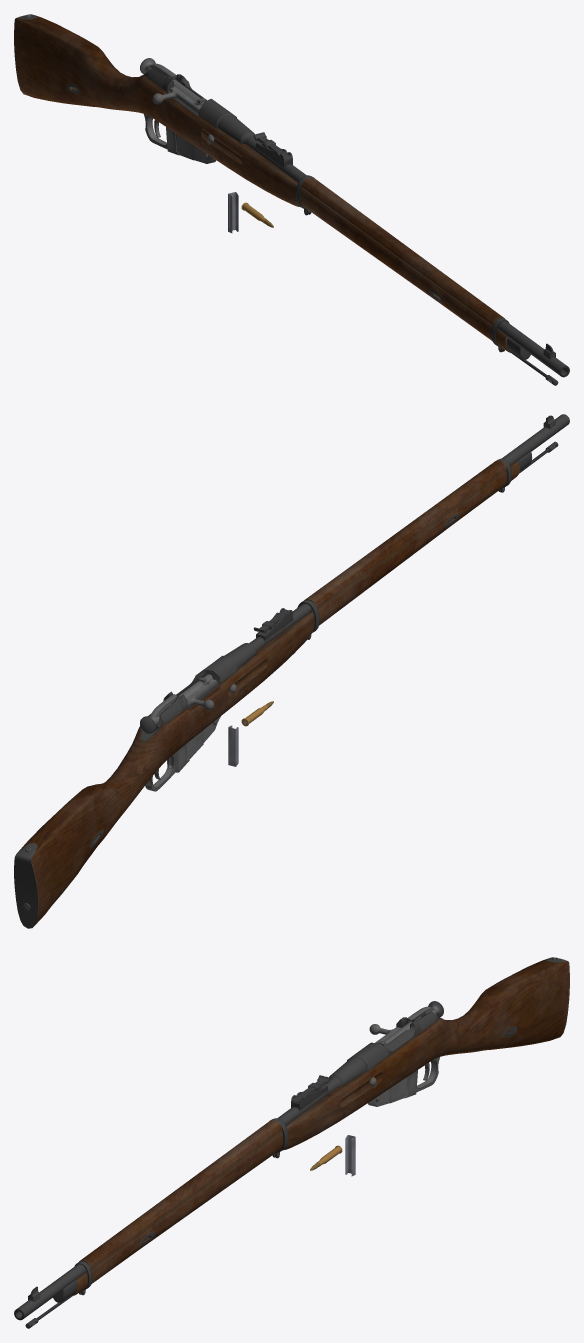
3 renders of one model, top to bottom at view 1: azimuth 30°, elevation 25°; view 2: azimuth 150°, elevation 25°; view 3: azimuth 330°, elevation 25°, orthographic.
Visible parts, largest first — view 1: Body_MosinBody_MAT, Body_MosinDetail_MAT; view 2: Body_MosinBody_MAT, Body_MosinDetail_MAT; view 3: Body_MosinBody_MAT, Body_MosinDetail_MAT.
Boxes of the visible parts, box(x1,y1,x2,y2) form: Body_MosinBody_MAT: box(14, 14, 558, 385); Body_MosinDetail_MAT: box(25, 14, 569, 377); Body_MosinBody_MAT: box(14, 441, 558, 928); Body_MosinDetail_MAT: box(23, 414, 569, 910); Body_MosinBody_MAT: box(25, 957, 569, 1328); Body_MosinDetail_MAT: box(14, 957, 558, 1320).
Bounding box in the file's own units: 0.062 × 0.1712 × 1.29.
2 materials, 2 textured.
